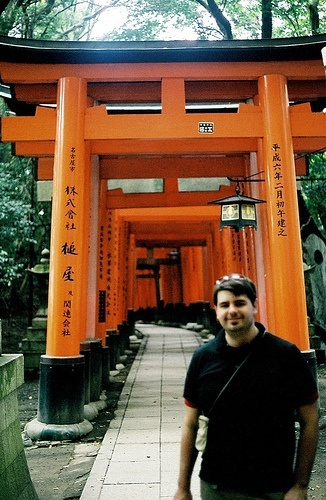head: (208, 272, 263, 338)
person: (173, 275, 322, 500)
